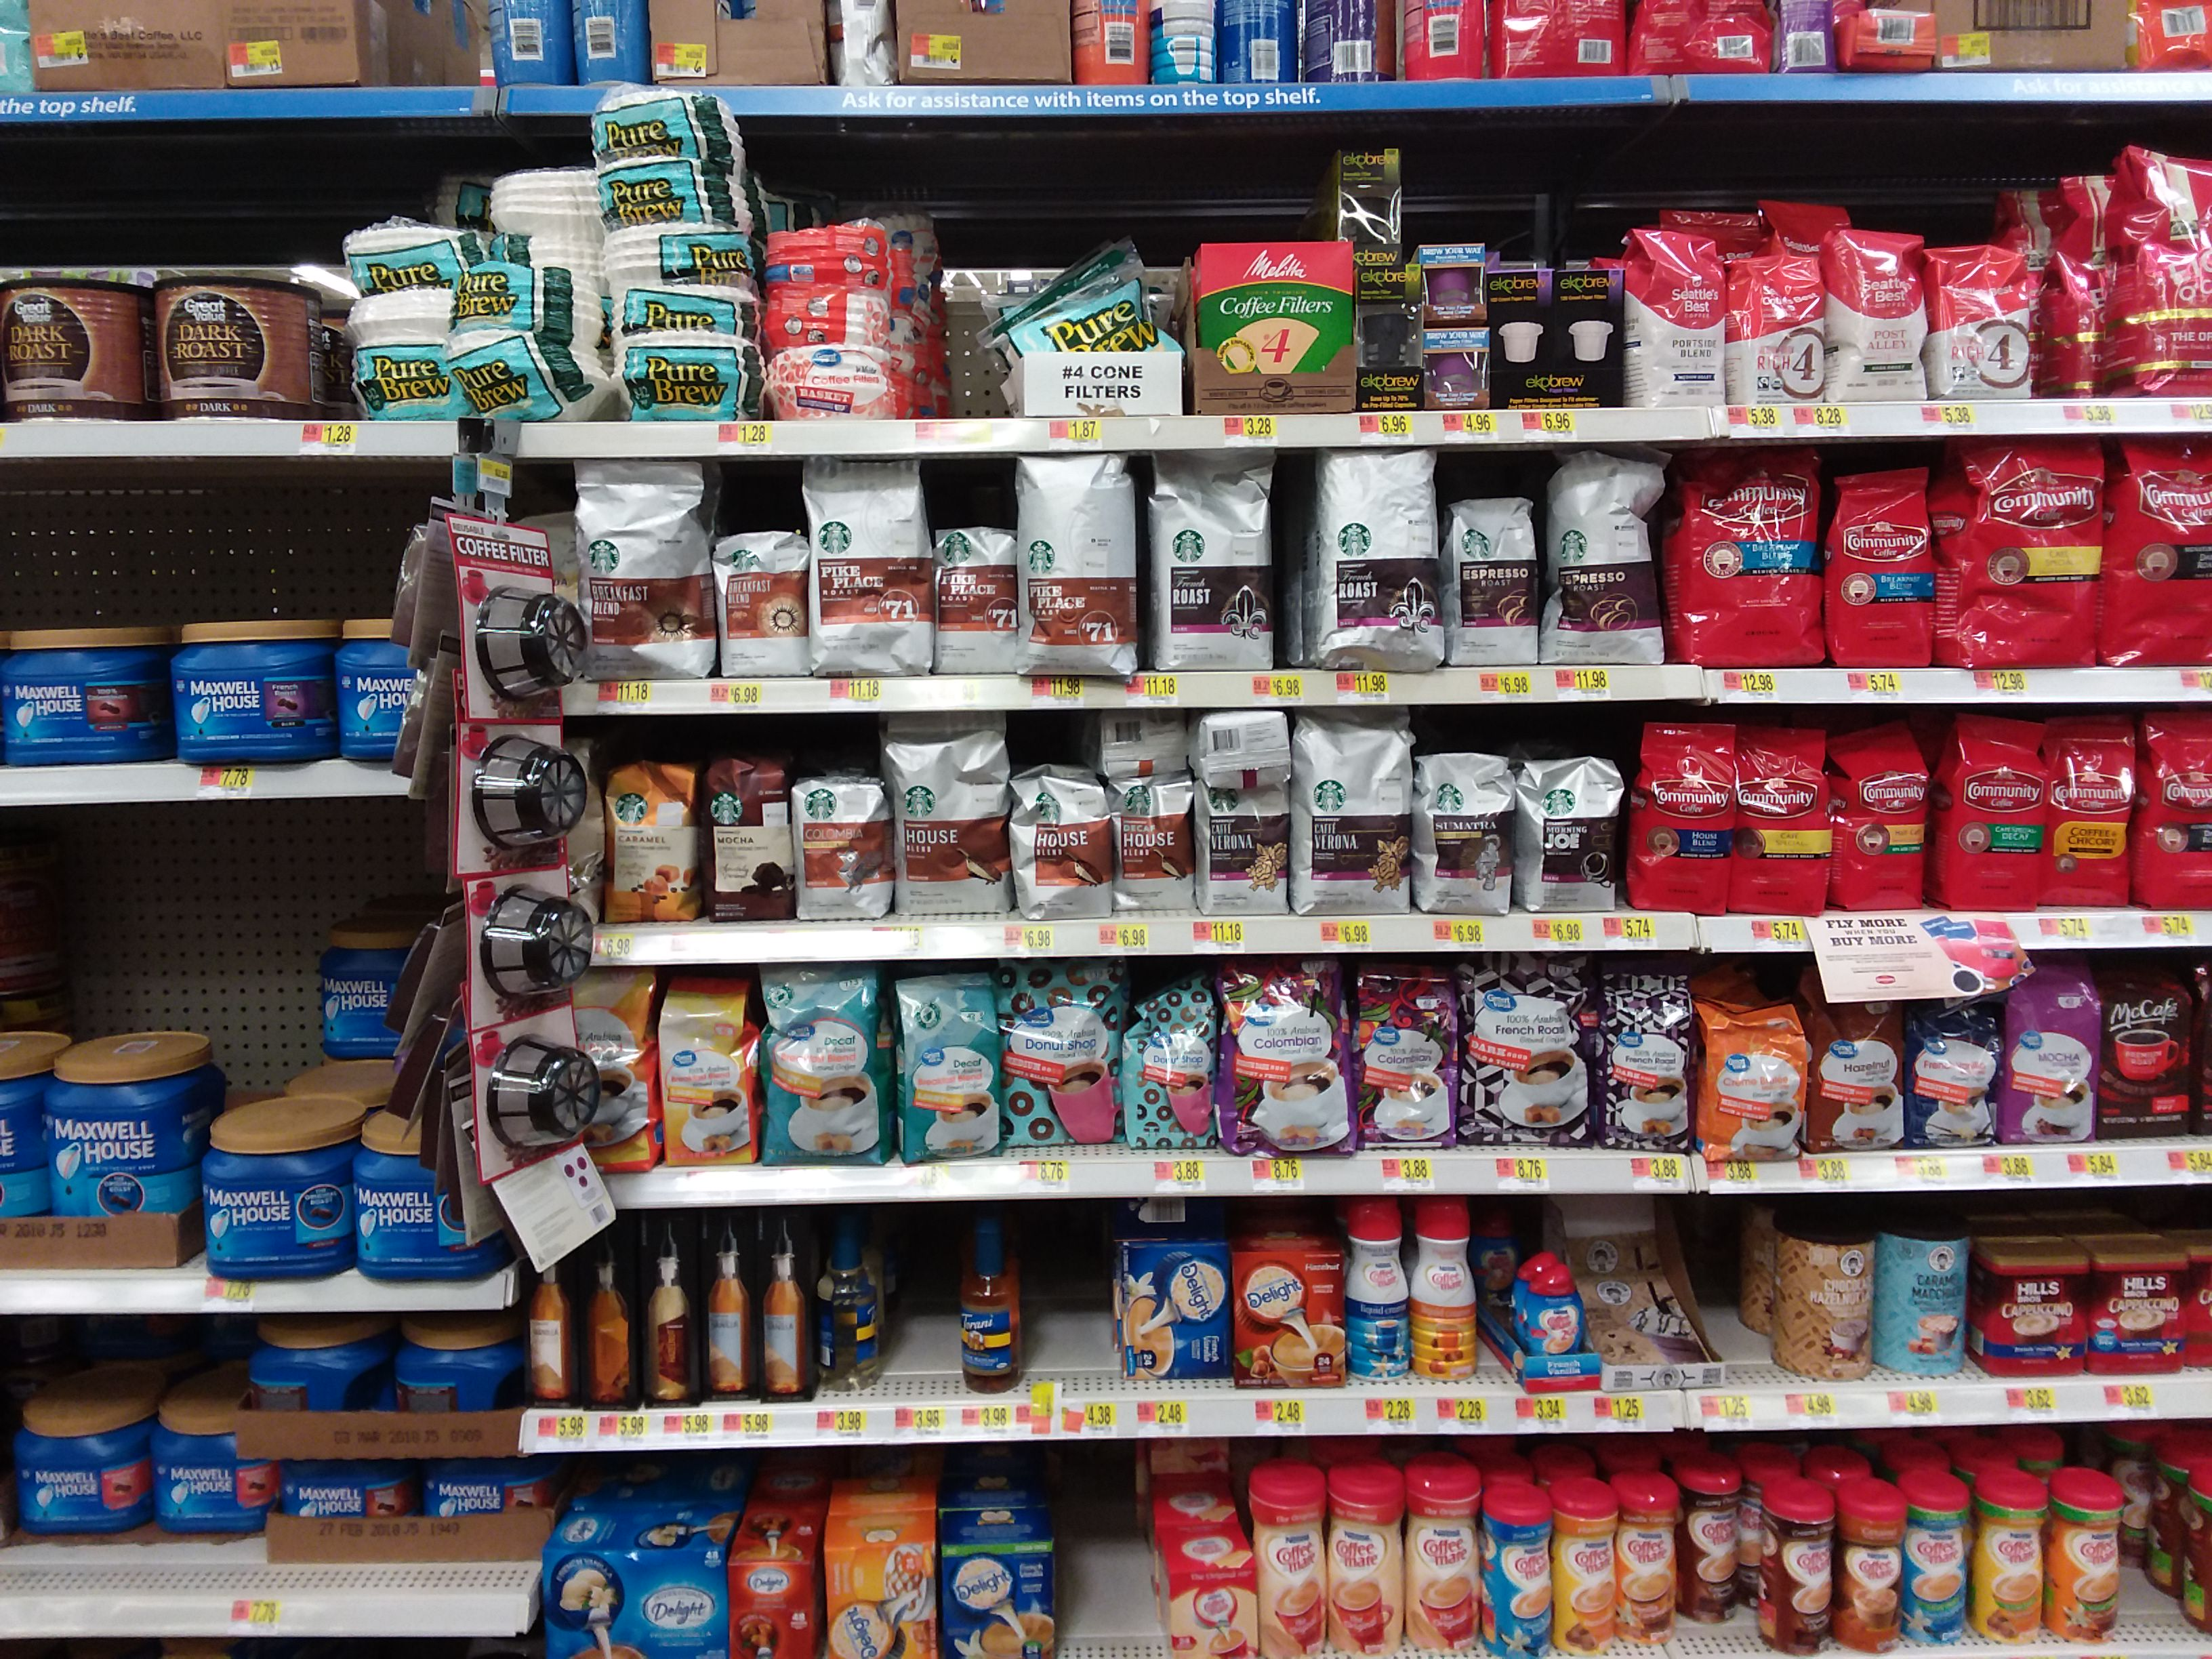Out-of-stock: (1026, 1227, 1118, 1377)
